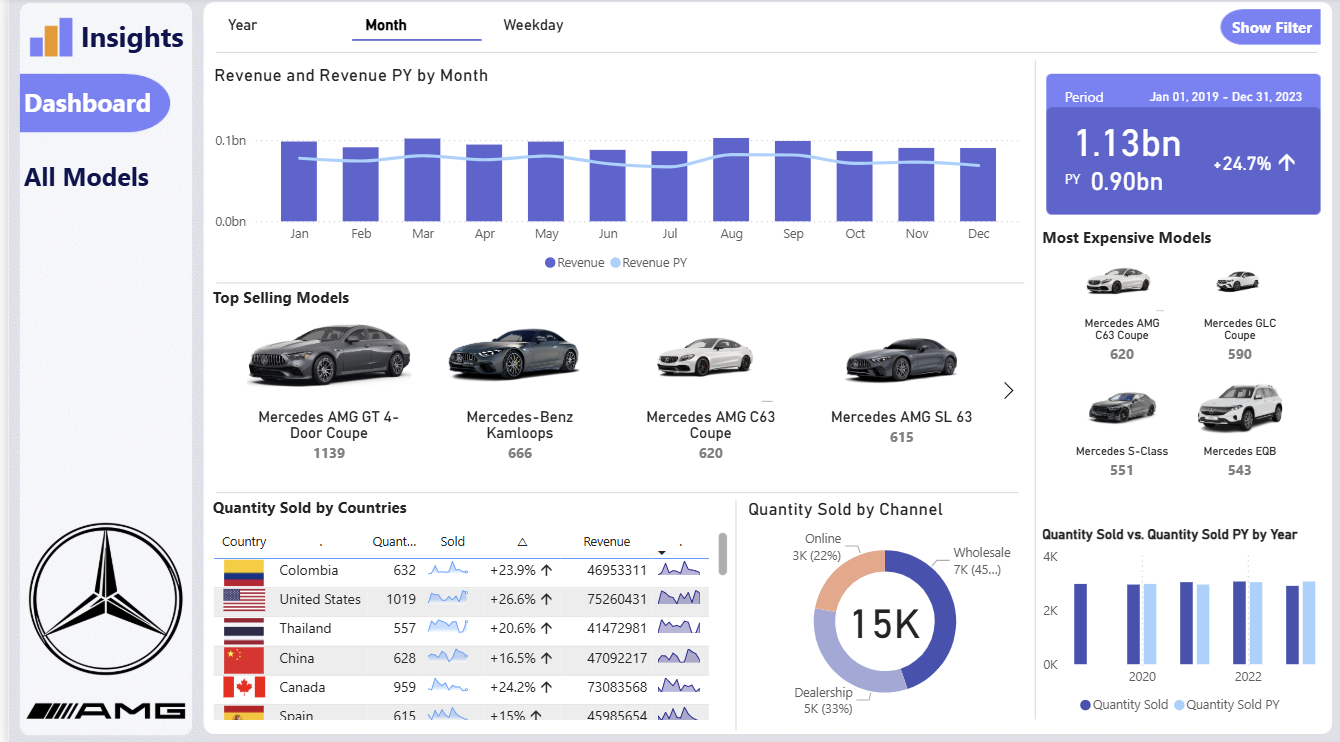

This screenshot's page, from the dashboard's own definition file:
{"tool":"powerbi","page":{"name":"Dashboard","canvas":[1280,720],"ordinal":0},"visuals":[{"type":"lineClusteredColumnComboChart","fields":{"Category":["Calendar.Month"],"Y":["All Measures.Revenue"],"Y2":["All Measures.Revenue PY"]},"box":[192,64,784,208],"z":0},{"type":"advancedSlicerVisual","fields":{"Values":["Period_Slicer.Period_Slicer"]},"box":[192,0,400,48],"z":1000},{"type":"card","fields":{"Values":["All Measures.Revenue"]},"box":[960,96,224,80],"z":2000},{"type":"card","fields":{"Values":["All Measures.Revenue PY"]},"box":[976,144,192,64],"z":3000},{"type":"textbox","box":[1008,160,80,32],"z":4000},{"type":"card","fields":{"Values":["All Measures.Revenue Variance % Arrow"]},"box":[1136,128,112,64],"z":5000},{"type":"card","fields":{"Values":["All Measures.Selected Period"]},"box":[1072,80,192,32],"z":6000},{"type":"advancedSlicerVisual","fields":{"Values":["Dim_Model.Model"]},"box":[191.9,280.2,783.7,193],"z":7000},{"type":"textbox","box":[1008.1,80.2,64,31.4],"z":8000},{"type":"textbox","box":[191.9,272.1,148.8,32.6],"z":9000},{"type":"textbox","box":[986.5,214.2,181.1,33],"z":10000},{"type":"clusteredColumnChart","title":"Quantity Sold vs. Quantity Sold PY by Year","fields":{"Y":["All Measures.qty Sold","All Measures.qty Sold PY"],"Category":["Calendar.Year"]},"box":[986.5,507.9,277.8,189.7],"z":11000},{"type":"donutChart","fields":{"Y":["All Measures.Quantity Sold"],"Category":["Dim_Channel.Channel"]},"box":[704.7,480.8,271.5,216.6],"z":12000},{"type":"card","fields":{"Values":["All Measures.Quantity Sold"]},"box":[759.6,545.1,160.6,103.6],"z":13000},{"type":"tableEx","fields":{"Values":["Dim_Country.Countries with Flags URL.Flag","Dim_Country.Country","All Measures.Quantity Sold","All Measures.Quantity Sold Sparkline","All Measures.Quantity Sold Variance % Arrow","All Measures.Revenue","All Measures.Revenue Sparkline"]},"box":[192,507.8,503.4,189.7],"z":14000},{"type":"textbox","box":[192,473.2,199.8,32.4],"z":15000},{"type":"textbox","box":[10.6,79.6,167.2,63.7],"z":16000},{"type":"textbox","box":[10.6,149.9,167.2,63.7],"z":17000},{"type":"actionButton","box":[10.6,151.2,152.6,46.4],"z":18000},{"type":"image","box":[10.4,648.7,166.8,71.5],"z":19000},{"type":"image","box":[10.4,480.8,166.8,192.7],"z":20000},{"type":"actionButton","box":[1158.8,8.2,105.8,39.9],"z":22000},{"type":"image","box":[10.7,8.3,63,55.8],"z":23000},{"type":"textbox","box":[64.2,14.3,121.2,64.2],"z":24000},{"type":"advancedSlicerVisual","fields":{"Values":["Dim_Model.Model"]},"box":[986.7,223.3,277.8,257.8],"z":25000}]}

Visuals, with their boxes in screenshot pixels (x1, y1, x2, y2), scaled from the page's 1280x720 canvas onto the 1340x742 screenshot:
lineClusteredColumnComboChart - Calendar.Month x All Measures.Revenue: 201:66:1022:280
advancedSlicerVisual - Period_Slicer.Period_Slicer: 201:0:620:49
card - All Measures.Revenue: 1005:99:1240:181
card - All Measures.Revenue PY: 1022:148:1223:214
textbox: 1055:165:1139:198
card - All Measures.Revenue Variance % Arrow: 1189:132:1306:198
card - All Measures.Selected Period: 1122:82:1323:115
advancedSlicerVisual - Dim_Model.Model: 201:289:1021:488
textbox: 1055:83:1122:115
textbox: 201:280:357:314
textbox: 1033:221:1222:255
"Quantity Sold vs. Quantity Sold PY by Year" clusteredColumnChart: 1033:523:1324:719
donutChart - All Measures.Quantity Sold x Dim_Channel.Channel: 738:495:1022:719
card - All Measures.Quantity Sold: 795:562:963:669
tableEx - Dim_Country.Countries with Flags URL.Flag x Dim_Country.Country: 201:523:728:719
textbox: 201:488:410:521
textbox: 11:82:186:148
textbox: 11:154:186:220
actionButton: 11:156:171:204
image: 11:669:186:741
image: 11:495:186:694
actionButton: 1213:8:1324:50
image: 11:9:77:66
textbox: 67:15:194:81
advancedSlicerVisual - Dim_Model.Model: 1033:230:1324:496
